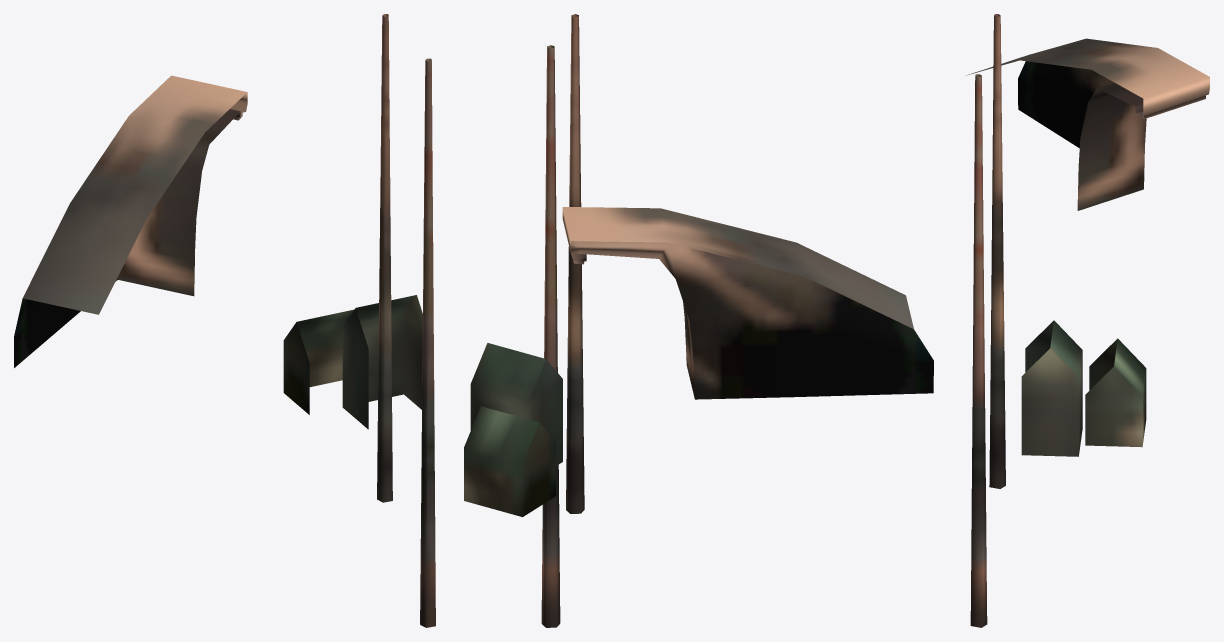
File: sc_xcb_yj07_05_um.fbx
The picture shows the model from 3 angles, left to right: view 1: azimuth 30°, elevation 25°; view 2: azimuth 150°, elevation 25°; view 3: azimuth 270°, elevation 25°; orthographic projection. The views are drawn at different scales.
Parts seen in each view (by area): view 1: sc_xcb_yj07_05; view 2: sc_xcb_yj07_05; view 3: sc_xcb_yj07_05.
Boxes of the visible parts, x1,y1,x2,y2 form: sc_xcb_yj07_05: (14, 14, 435, 627); sc_xcb_yj07_05: (464, 14, 933, 627); sc_xcb_yj07_05: (966, 14, 1209, 627).
Size of the model in its own units: 38854 by 53772 by 20361.
